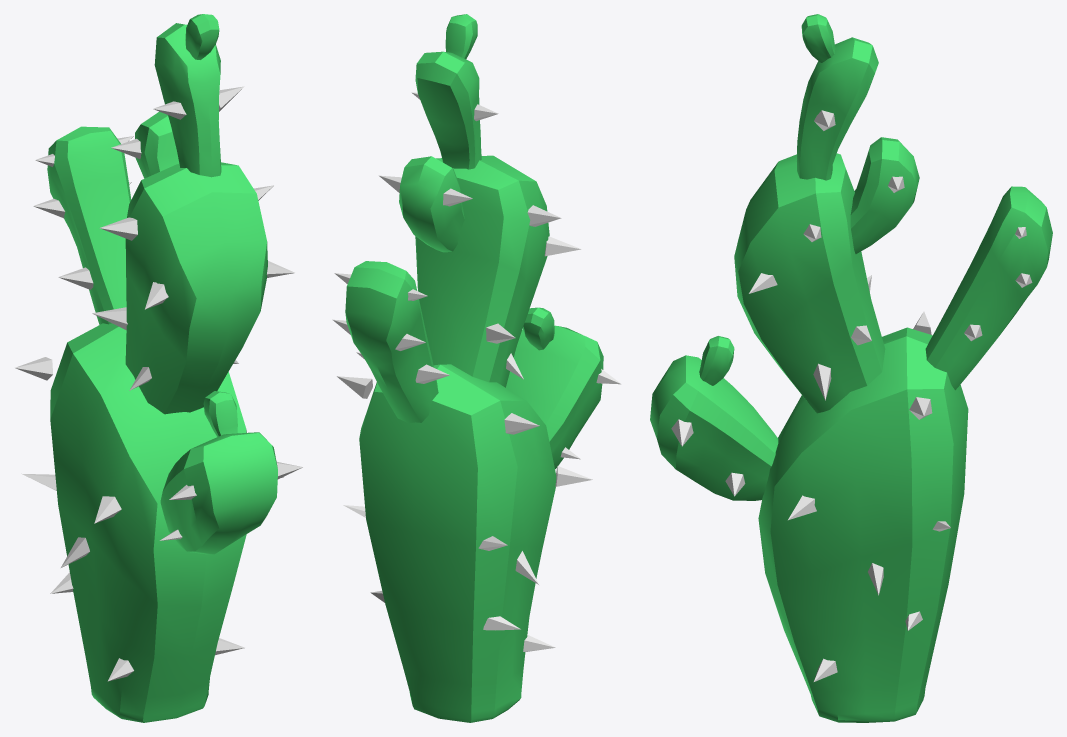
The model's file is Cactus2.fbx.
3 views of the same model, side by side, from view 1: azimuth 30°, elevation 25°; view 2: azimuth 150°, elevation 25°; view 3: azimuth 270°, elevation 25° (orthographic). The views are drawn at different scales.
Parts seen in each view (by area): view 1: 2; view 2: 2; view 3: 2.
Boxes of the visible parts, x1,y1,x2,y2 form: 2: (15,14,302,722); 2: (332,14,621,722); 2: (650,14,1052,722).
Size of the model in its own units: 200 by 622 by 323.
